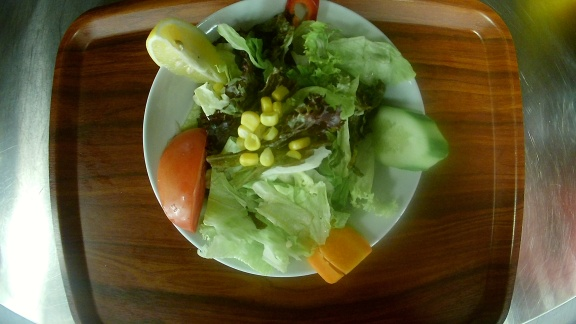salata: (142, 2, 432, 277)
